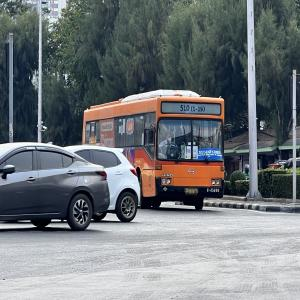BMTA-bus: (82, 90, 225, 211)
Bus Line Number: (178, 102, 207, 114)
Bus Side Number: (206, 186, 221, 194)
Destination Sign: (198, 148, 223, 160)
